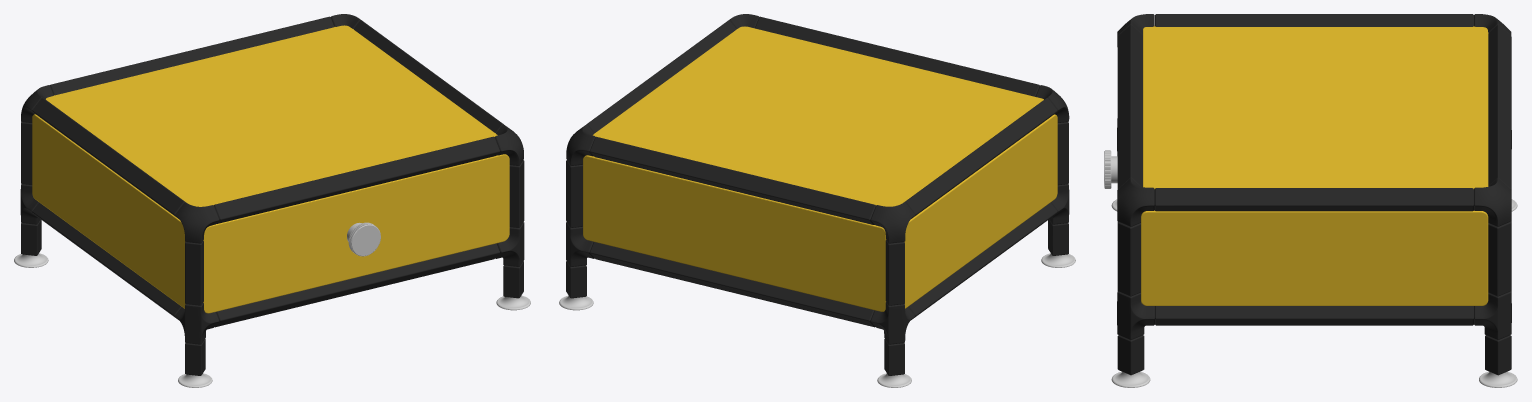
3 views of the same model, side by side, from view 1: azimuth 30°, elevation 25°; view 2: azimuth 150°, elevation 25°; view 3: azimuth 270°, elevation 25° (orthographic). The views are drawn at different scales.
Visible parts, largest first — view 1: 374x329x79; view 2: 374x329x79; view 3: 374x329x79.
Part boxes in pixels (x1=…): 374x329x79: x1=14, y1=14, x2=530, y2=387; 374x329x79: x1=559, y1=14, x2=1075, y2=387; 374x329x79: x1=1104, y1=14, x2=1517, y2=387.
Size of the model in its own units: 0.4639 by 0.2183 by 0.4257.
